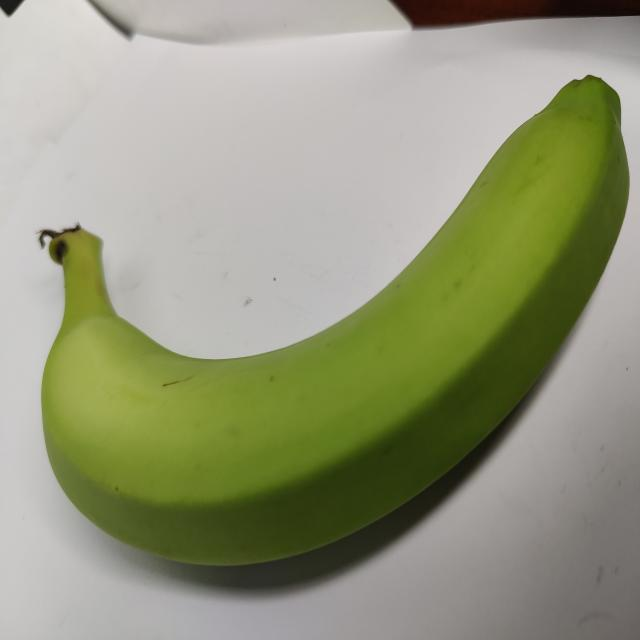raw: (37, 61, 640, 579)
